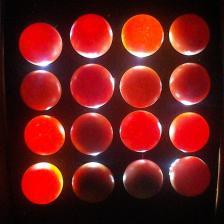fertile: (169, 62, 211, 105), (169, 15, 212, 56), (71, 113, 113, 154), (73, 162, 114, 202), (123, 159, 163, 199)
infertile: (70, 14, 113, 59), (72, 64, 114, 107), (120, 110, 162, 152), (19, 24, 62, 65), (122, 15, 163, 58), (120, 65, 161, 108), (169, 112, 212, 153), (22, 163, 64, 204), (171, 156, 211, 197), (24, 116, 65, 156), (21, 70, 62, 110)
